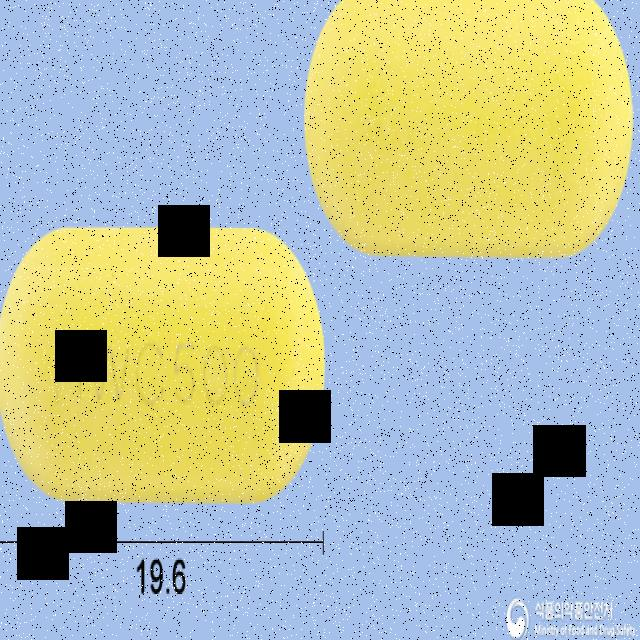Clacid: (0, 213, 332, 514)
